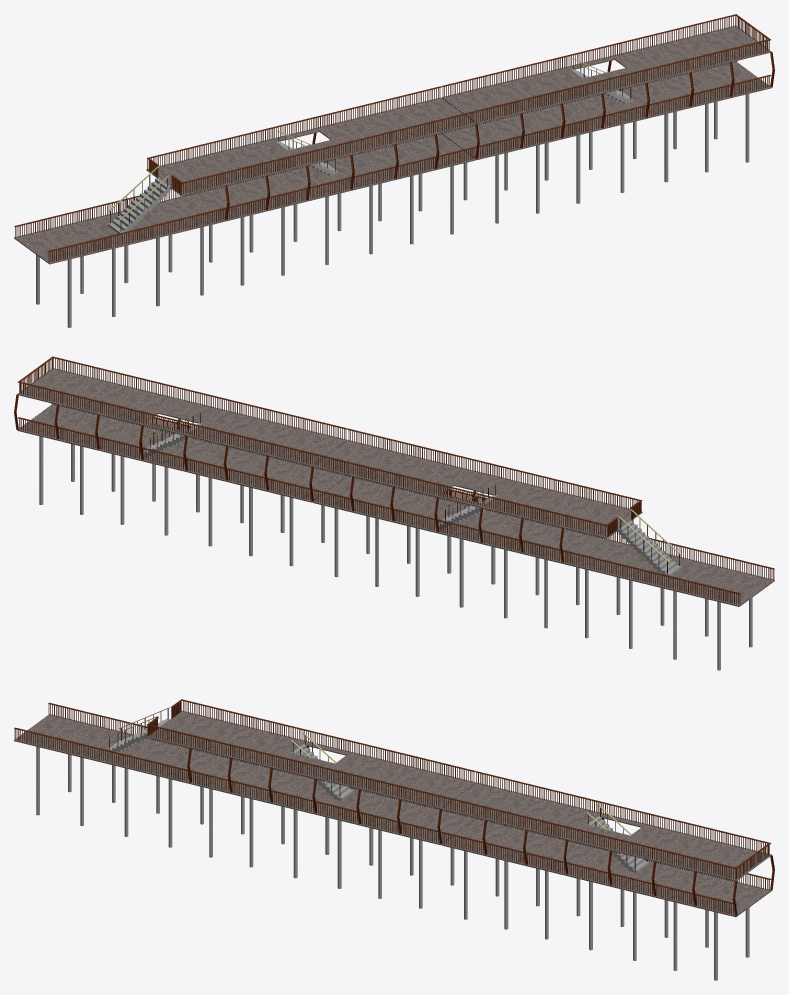
File: full_pier_towerground.obj
3 views of the same model, one above another, from view 1: azimuth 30°, elevation 25°; view 2: azimuth 150°, elevation 25°; view 3: azimuth 330°, elevation 25° (orthographic).
Visible parts, largest first — view 1: Cube.003_Cube.000; view 2: Cube.003_Cube.000; view 3: Cube.003_Cube.000.
Boxes of the visible parts, x1,y1,x2,y2 form: Cube.003_Cube.000: [14, 14, 774, 327]; Cube.003_Cube.000: [14, 356, 774, 670]; Cube.003_Cube.000: [14, 699, 774, 980].
Bounding box in the file's own units: 269 × 42.23 × 26.29.
Materials: 16 (16 with a texture image).
